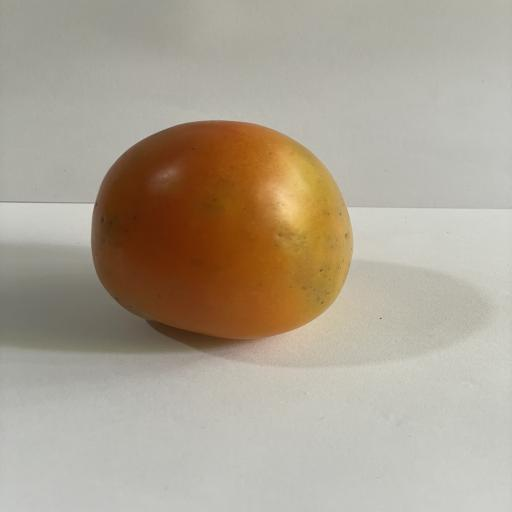unripe: (92, 121, 353, 339)
